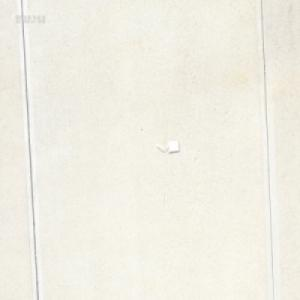LuggageTag: (154, 138, 179, 155)
